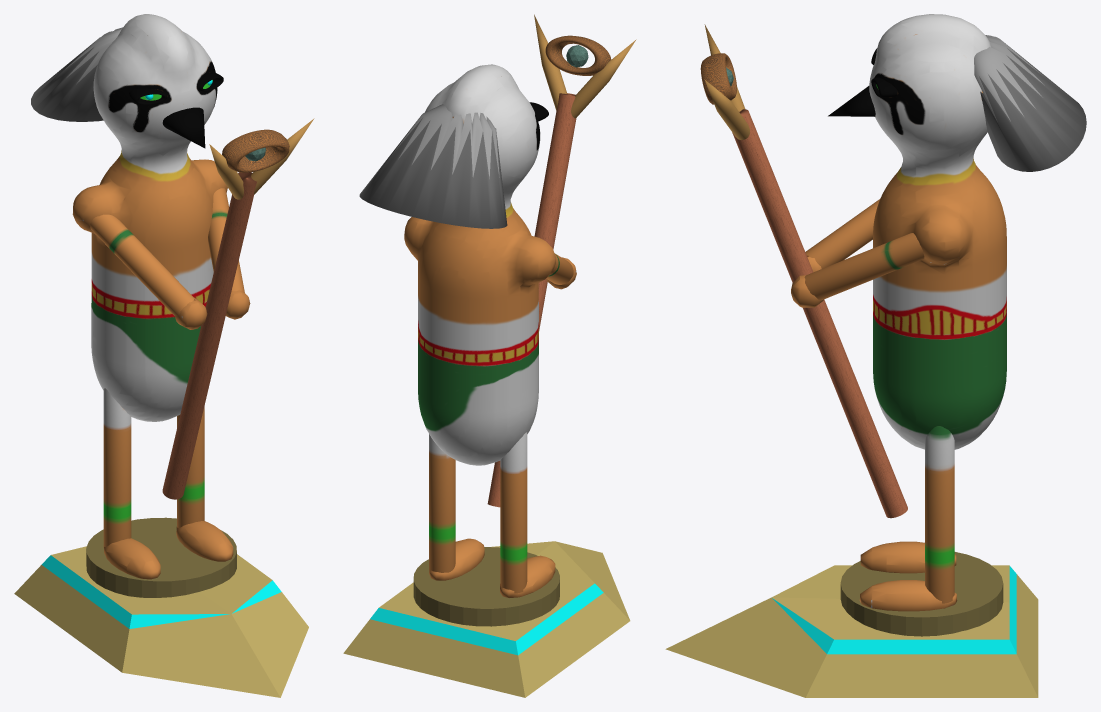
File: Horus 2.0.fbx
3 views of the same model, side by side, from view 1: azimuth 30°, elevation 25°; view 2: azimuth 150°, elevation 25°; view 3: azimuth 270°, elevation 25° (orthographic). The views are drawn at different scales.
Visible parts, largest first — view 1: Mball.000, Kubus, Cylinder.005, Cylinder, Cylinder.001, Kegel.001, Cylinder.003, Torus.004, Cylinder.002, Cylinder.004, Kegel, Cylinder.006 (+1 smaller); view 2: Mball.000, Kubus, Kegel.001, Cylinder, Cylinder.001, Cylinder.005, Cylinder.002, Torus.004, Cylinder.006, Cylinder.007, Cylinder.003; view 3: Mball.000, Kubus, Kegel.001, Cylinder.005, Cylinder, Cylinder.002, Cylinder.004, Cylinder.003, Torus.004, Cylinder.007, Kegel.
Part boxes in pixels (x1,y1,x2,y2): Mball.000: (72, 14, 250, 579); Kubus: (14, 546, 308, 697); Cylinder.005: (162, 172, 256, 499); Cylinder: (86, 517, 236, 597); Cylinder.001: (103, 388, 131, 547); Kegel.001: (31, 27, 122, 121); Cylinder.003: (90, 214, 194, 315); Torus.004: (222, 129, 289, 172); Cylinder.002: (177, 406, 204, 527); Cylinder.004: (208, 188, 244, 292); Kegel: (162, 107, 205, 148); Cylinder.006: (209, 144, 243, 199); Mball.000: (404, 64, 576, 597); Kubus: (343, 541, 630, 697); Kegel.001: (359, 104, 507, 228); Cylinder: (413, 547, 559, 626); Cylinder.001: (500, 432, 527, 593); Cylinder.005: (487, 93, 576, 507); Cylinder.002: (429, 434, 455, 572); Torus.004: (545, 35, 611, 75); Cylinder.006: (571, 39, 636, 118); Cylinder.007: (534, 14, 567, 110); Cylinder.003: (546, 253, 573, 284); Mball.000: (791, 14, 1006, 611); Kubus: (665, 565, 1038, 697); Kegel.001: (974, 35, 1086, 171); Cylinder.005: (732, 109, 907, 518); Cylinder: (840, 552, 1003, 636); Cylinder.002: (925, 426, 954, 603); Cylinder.004: (804, 233, 924, 300); Cylinder.003: (805, 199, 879, 268); Torus.004: (700, 53, 736, 104); Cylinder.007: (705, 80, 749, 139); Kegel: (828, 86, 875, 116).
Size of the model in its own units: 400 by 1199 by 724.
